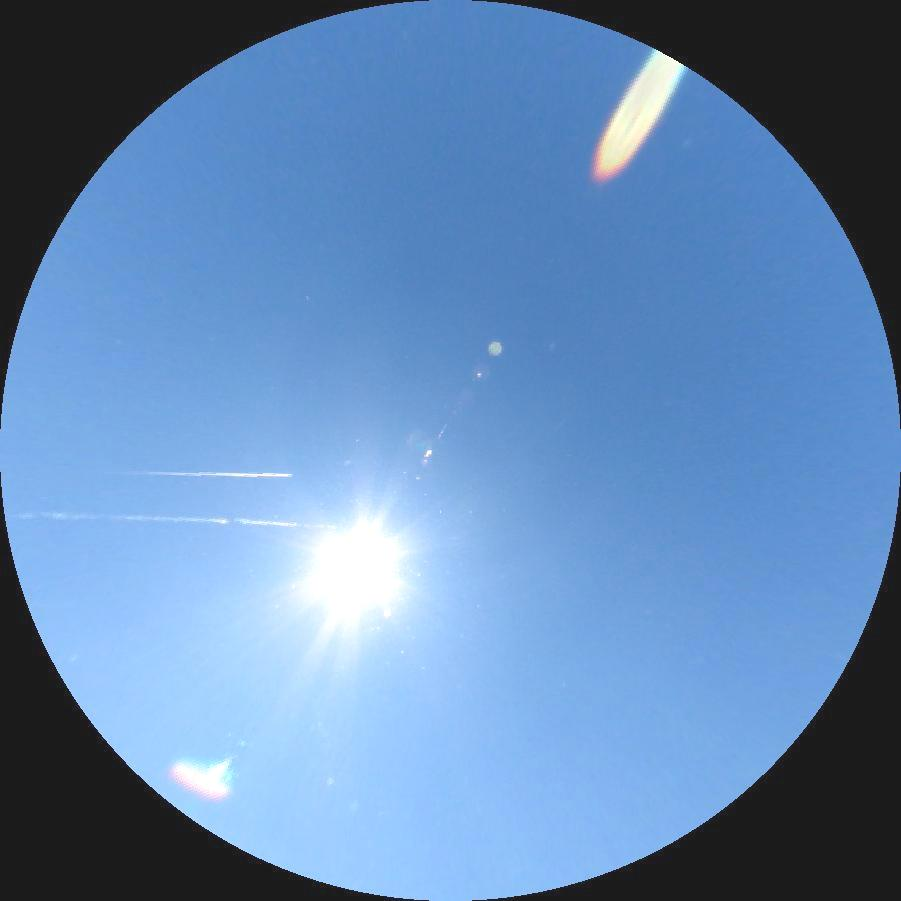contrail young: (134, 470, 295, 478), (552, 418, 566, 433)
parasite: (4, 509, 351, 536)
sun: (303, 517, 412, 621)
